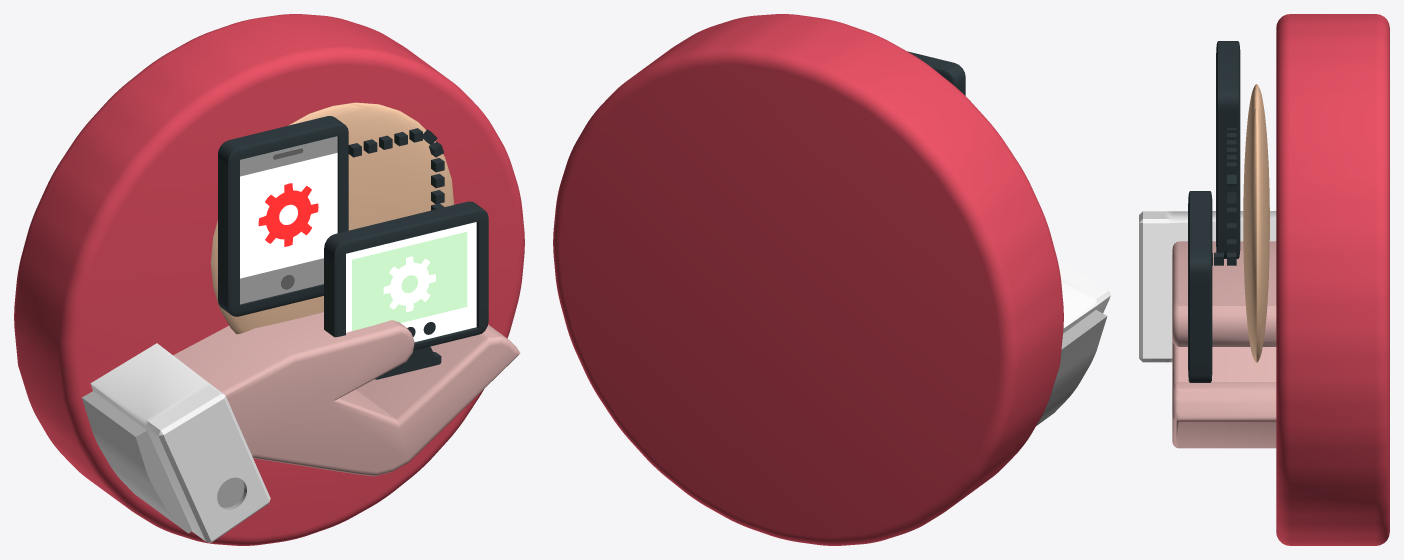
Rendered from modeladoMain.glb.
3 renders of one model, left to right at view 1: azimuth 30°, elevation 25°; view 2: azimuth 150°, elevation 25°; view 3: azimuth 270°, elevation 25°, orthographic.
Parts seen in each view (by area): view 1: BaseMain, Celular, Computadora, segundoFondo, tuercaCelular, tuercaComputadora; view 2: BaseMain, Celular; view 3: BaseMain, segundoFondo, Computadora, Celular.
Part boxes in pixels (left/top/right/bottom): BaseMain: left=14, top=14, right=524, bottom=545; Celular: left=218, top=116, right=348, bottom=316; Computadora: left=324, top=201, right=488, bottom=379; segundoFondo: left=210, top=102, right=454, bottom=334; tuercaCelular: left=258, top=183, right=318, bottom=246; tuercaComputadora: left=383, top=256, right=435, bottom=312; BaseMain: left=553, top=14, right=1110, bottom=545; Celular: left=907, top=51, right=965, bottom=95; BaseMain: left=1139, top=14, right=1389, bottom=545; segundoFondo: left=1243, top=84, right=1269, bottom=362; Computadora: left=1188, top=191, right=1212, bottom=382; Celular: left=1216, top=41, right=1240, bottom=258.
Size of the model in its own units: 6.6 by 6.6 by 3.11.
